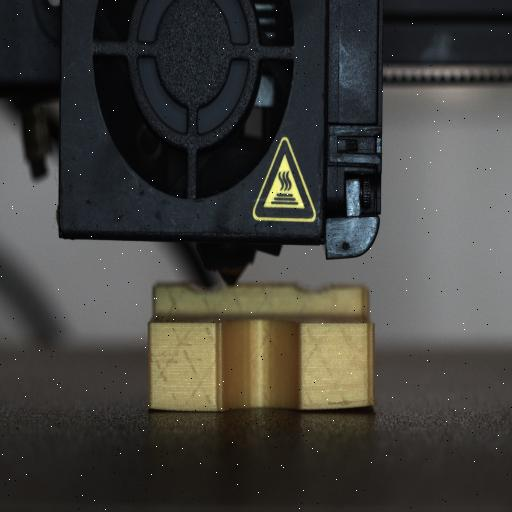warp: (298, 395, 382, 418), (143, 396, 173, 416)
